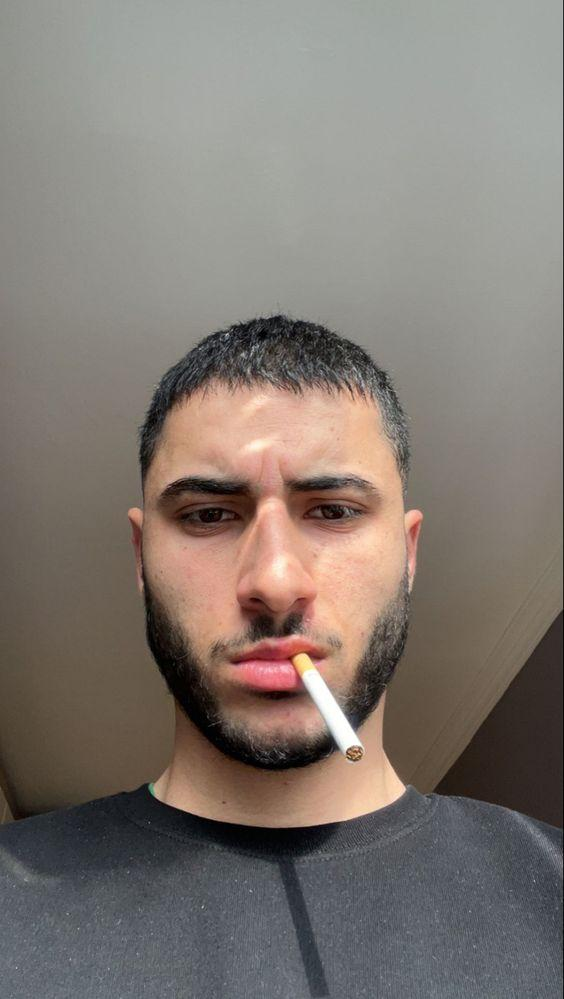cigarette: (291, 651, 365, 764)
